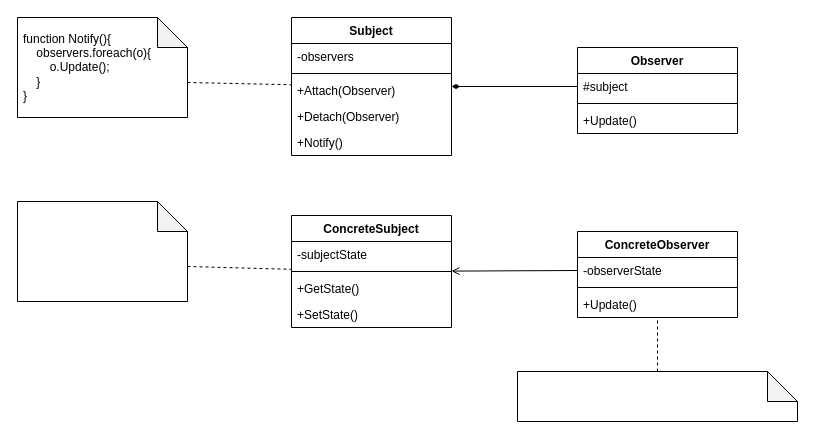
Image size: 815x439. Some labels were removed from this diagram. Here are the shapes that lost their labels. From the top down, the centre of each, then its label:
At [102,251]: "function GetState(){ return subjectState; }".
At [657,396]: "observerState = subject.GetState();".
